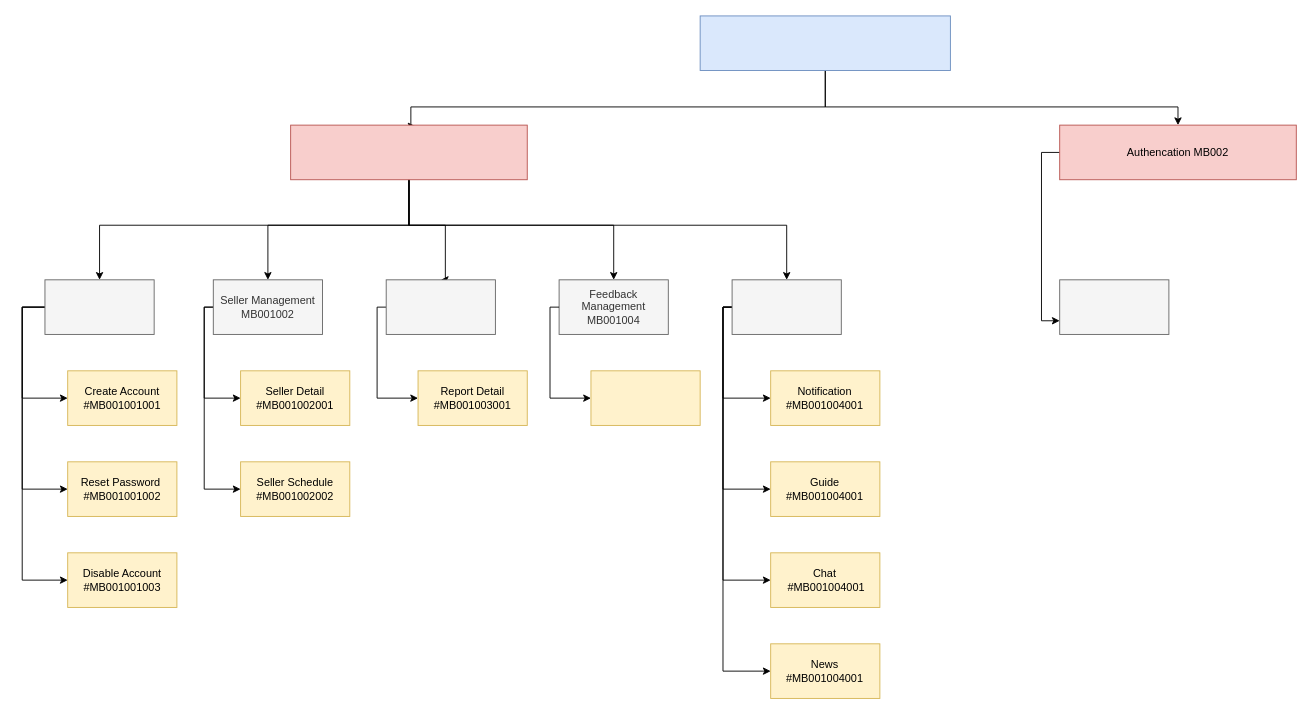
Some shapes in this 1313 by 714 pixel diagram are drawn without their labels. The shapes that lost their labels are listed below. From the top down, each one's centre as x and y in pixels, then its label:
the point at 824,43: Smart App
the point at 408,152: Home Page MB001
the point at 99,306: Account Management MB001001
the point at 440,306: Report Management MB001003
the point at 786,306: Others MB001004
the point at 1114,306: Login #MB002001
the point at 645,397: Feedback Detail #MB001004001
